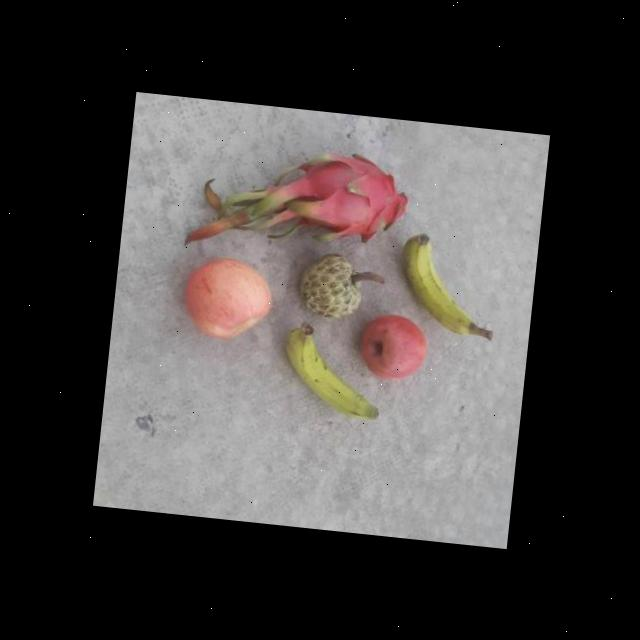Sakya fruit: (293, 248, 367, 322)
apple: (175, 240, 282, 364), (360, 305, 432, 387)
banana: (272, 316, 387, 446), (398, 230, 489, 336)
pitaya: (282, 141, 410, 253)
